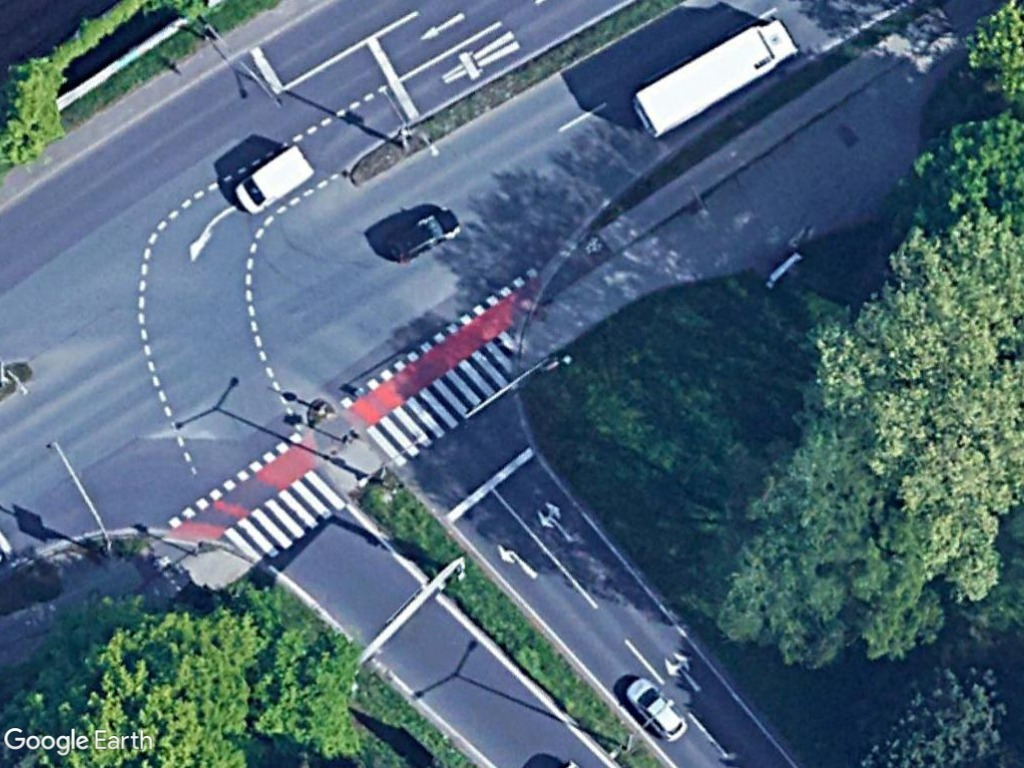car: (618, 668, 693, 744), (384, 207, 466, 264)
truck: (627, 16, 806, 143)
van: (232, 141, 317, 216)
